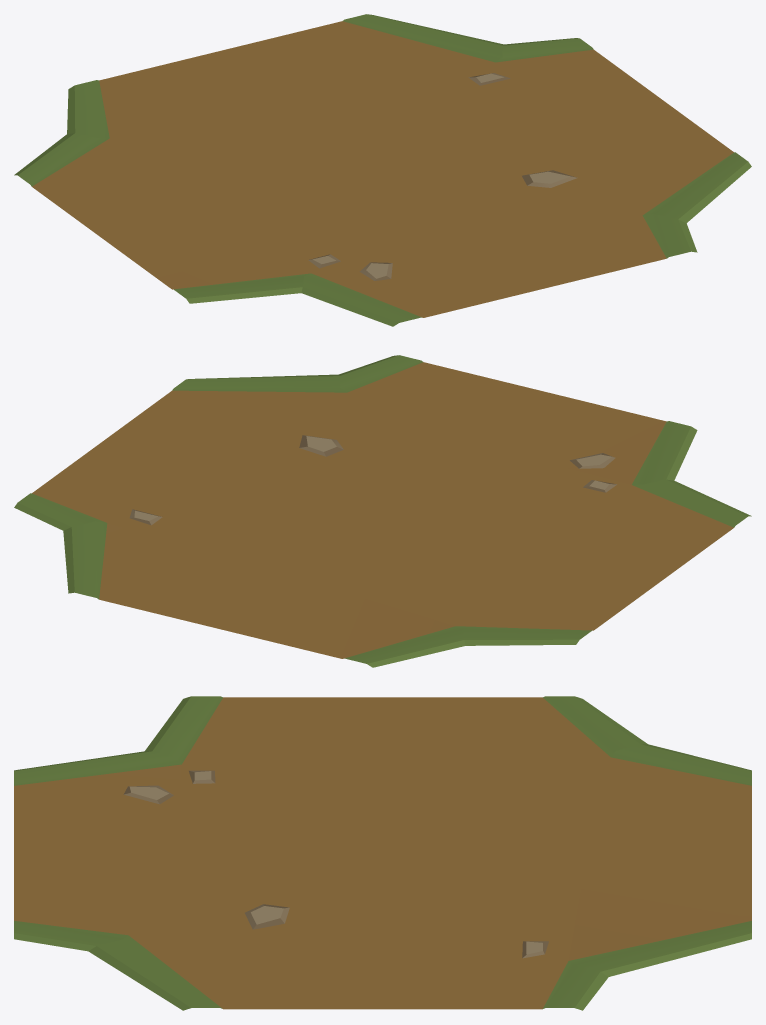
File: Path_Intersection.gltf
3 renders of one model, top to bottom at view 1: azimuth 30°, elevation 25°; view 2: azimuth 150°, elevation 25°; view 3: azimuth 270°, elevation 25°, orthographic. The views are drawn at different scales.
Parts seen in each view (by area): view 1: SF_Env_Path_Intersection_01; view 2: SF_Env_Path_Intersection_01; view 3: SF_Env_Path_Intersection_01.
Part boxes in pixels (x1=…): SF_Env_Path_Intersection_01: x1=14, y1=14, x2=751, y2=326; SF_Env_Path_Intersection_01: x1=14, y1=355, x2=751, y2=667; SF_Env_Path_Intersection_01: x1=14, y1=696, x2=751, y2=1010.
Bounding box in the file's own units: 0.1 × 0.000509 × 0.1.
1 material, 1 textured.
